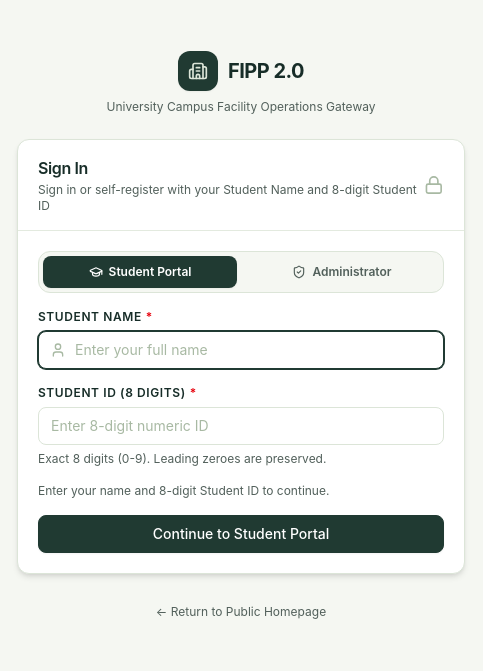
FIPP 2.0 Phase 8 & Phase 9 QA Frontend Regressions › 8. LoginPage surfaces genuine 409 mismatch and 500/502 backend errors gracefully without stream errors
Type "Wrong Person" into the field with placeholder "Enter your full name".
click(241, 350); type("Wrong Person")  # box [38,330,444,368]
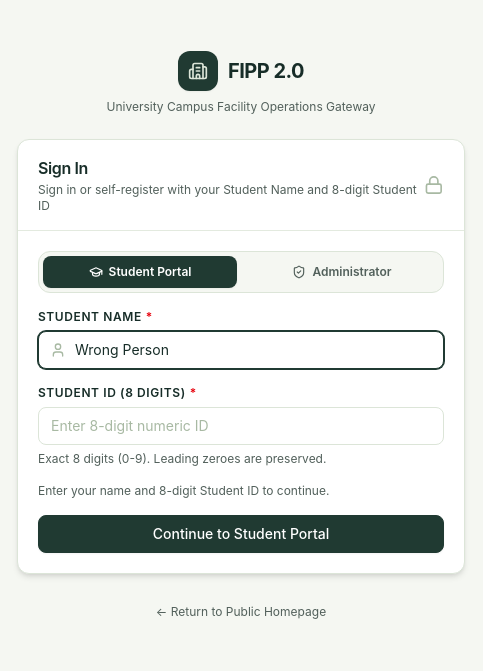
Type "00123456" into the field with placeholder "Enter 8-digit numeric ID".
click(241, 426); type("00123456")  # box [38,406,444,444]
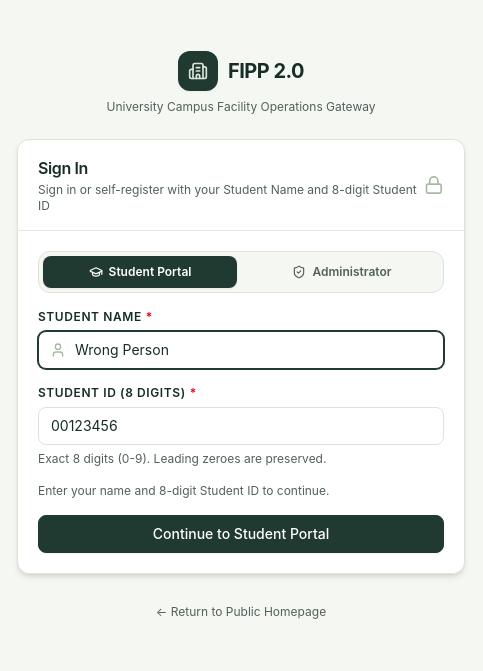
Click the button "Continue to Student Portal".
click(241, 534)  # box [38,514,444,552]
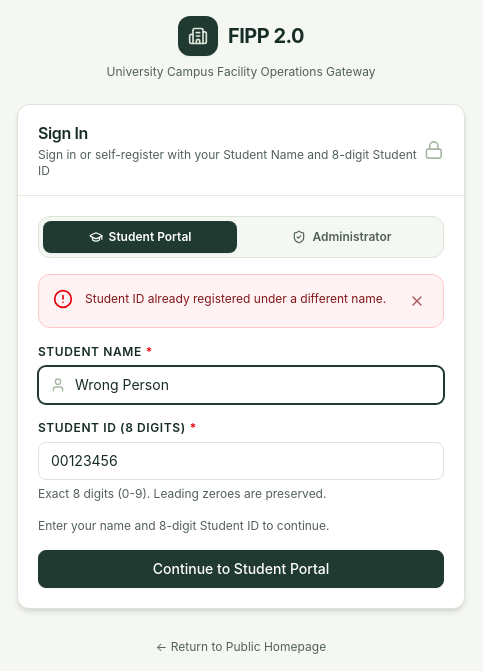
Check: the text "Student ID already registered under a different name." is shown, box [85,288,393,308]
Click the button "Continue to Student Portal".
click(241, 568)  # box [38,550,444,588]
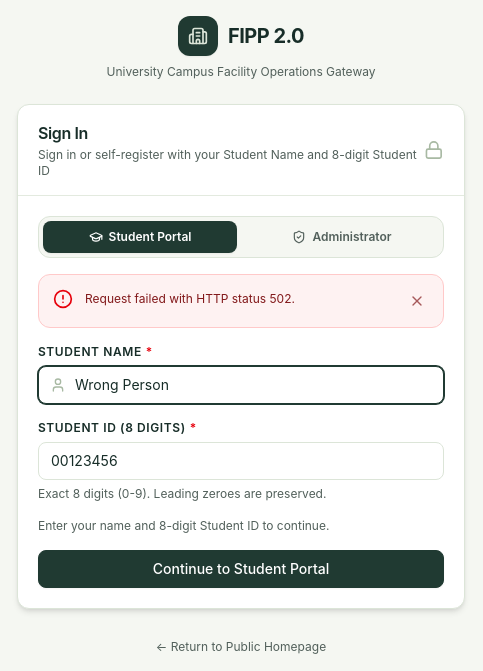
Check: the text "Request failed with HTTP status 502." is shown, box [85,290,295,306]
